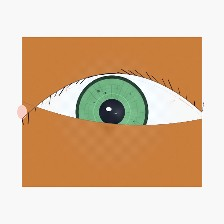pinguecula_lesion: (34, 96, 67, 123)
